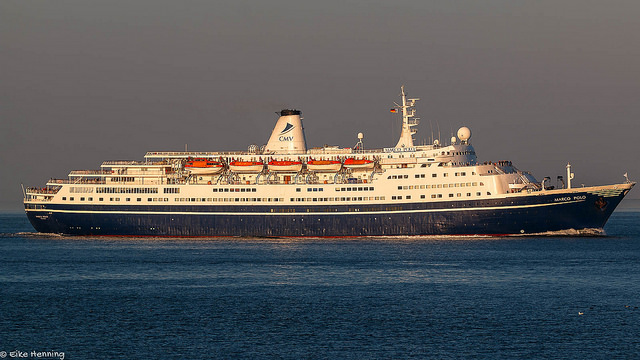cruise_ship: (21, 91, 632, 236)
